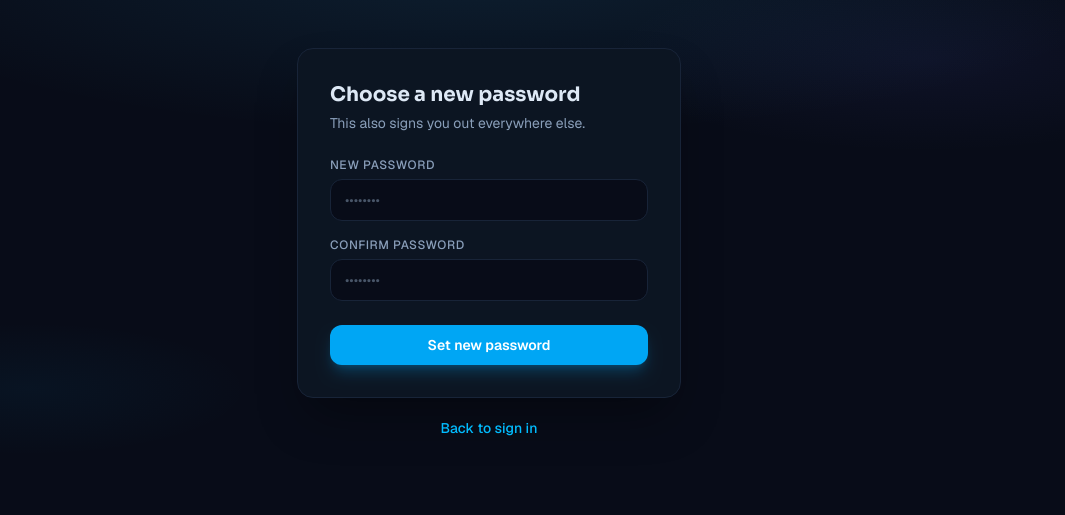
Test: ResetPasswordPage › surfaces an expired or spent token instead of pretending it worked
This screenshot has width=1065, height=515.
Type "new-password-1" into the password field labelled "New password". click: (489, 200)
box: [330,179,648,221]
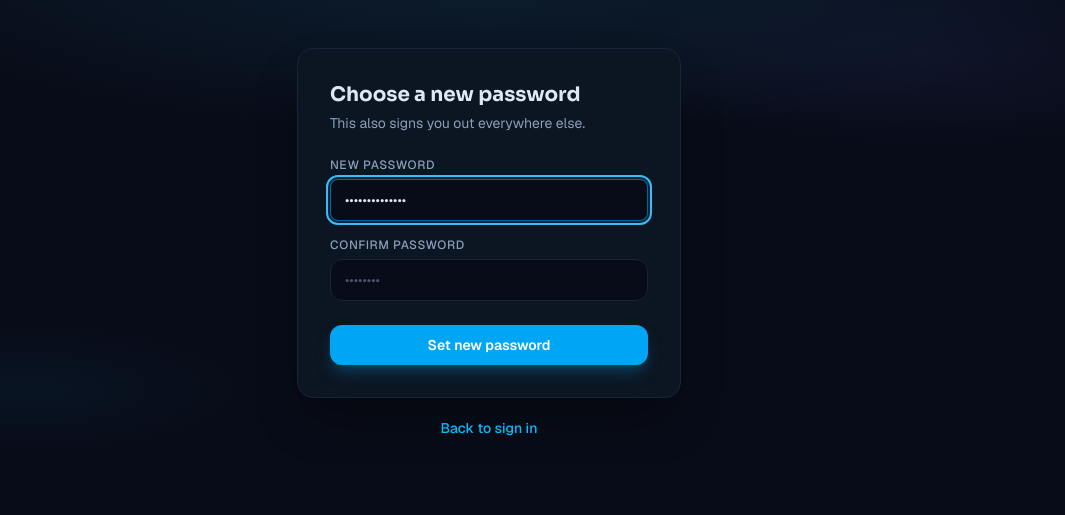
Type "new-password-1" into the password field labelled "Confirm password". click: (489, 280)
box: [330,259,648,301]
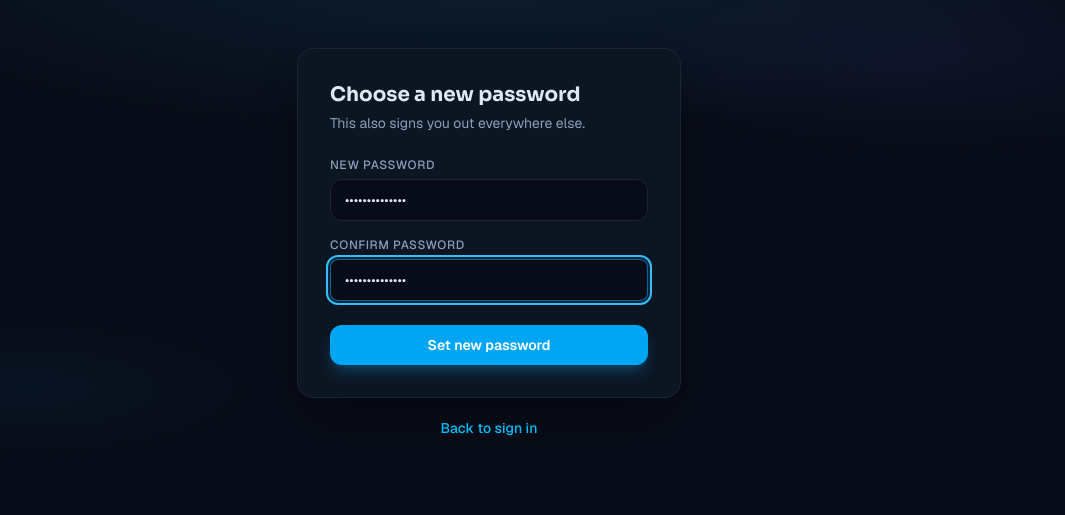
Click the button "Set new password". click: (489, 345)
box: [330,325,648,365]
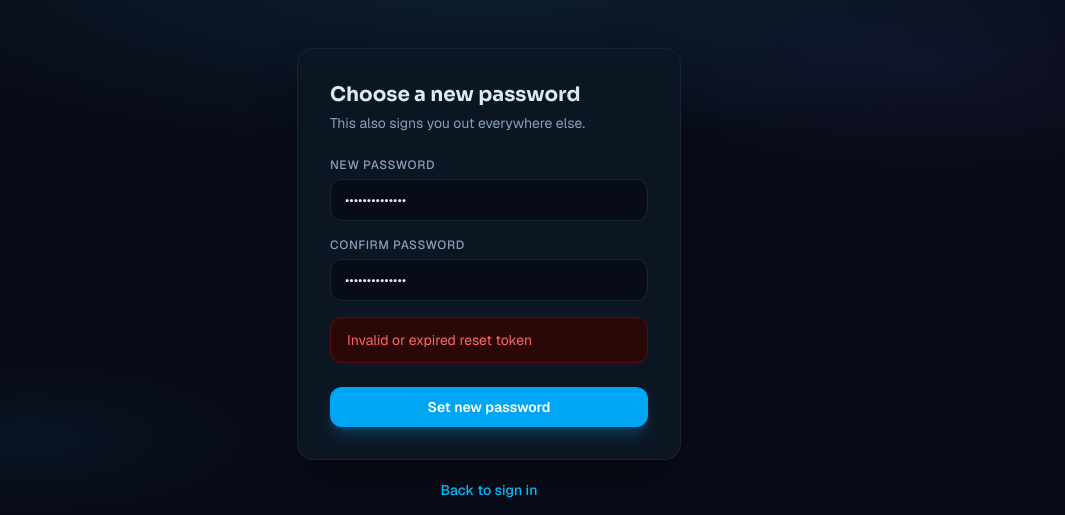
Check: the message reads "Invalid or expired reset token", box [347,331,532,349]
